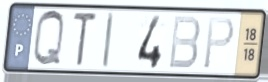4: (135, 12, 164, 71)
B: (166, 14, 202, 71)
I: (100, 10, 116, 71)
P: (201, 16, 236, 72)
Q: (31, 8, 67, 70)
T: (71, 10, 99, 69)
